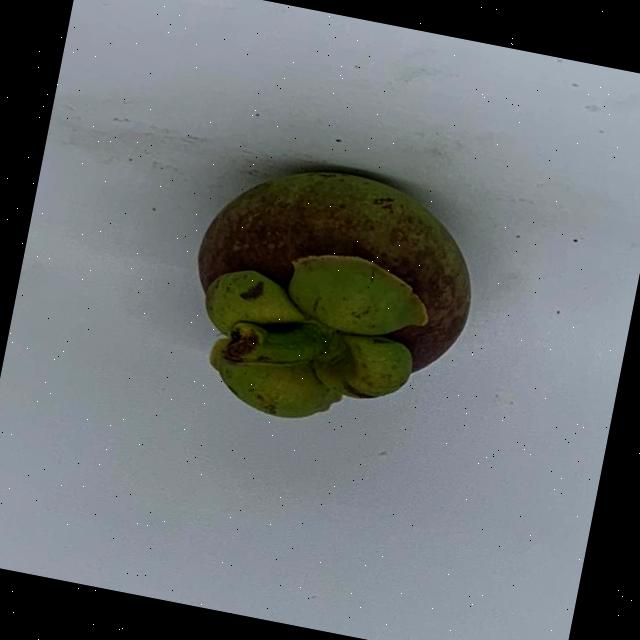mangosteen: (153, 137, 495, 453)
